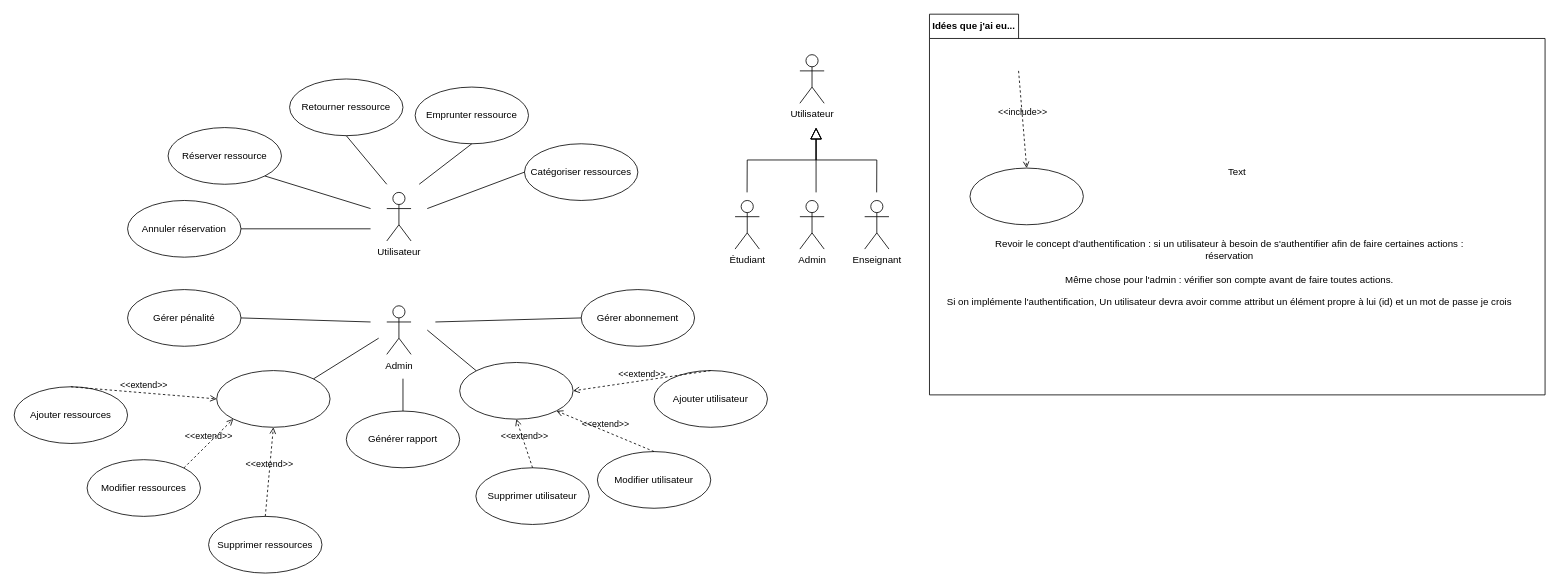
The diagram is 1559 pixels wide and 587 high, and some of its shapes have lost their labels. The box of each missing label's shape, as (x1, y1, x2, y2) in pixels:
Gérer ressources: (216, 370, 330, 427)
Gérer utilisateur: (459, 362, 573, 419)
S'authentifier: (969, 167, 1083, 225)
